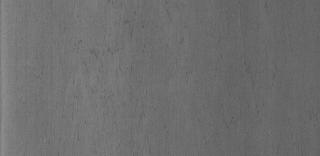silk spot: (79, 15, 193, 149)
